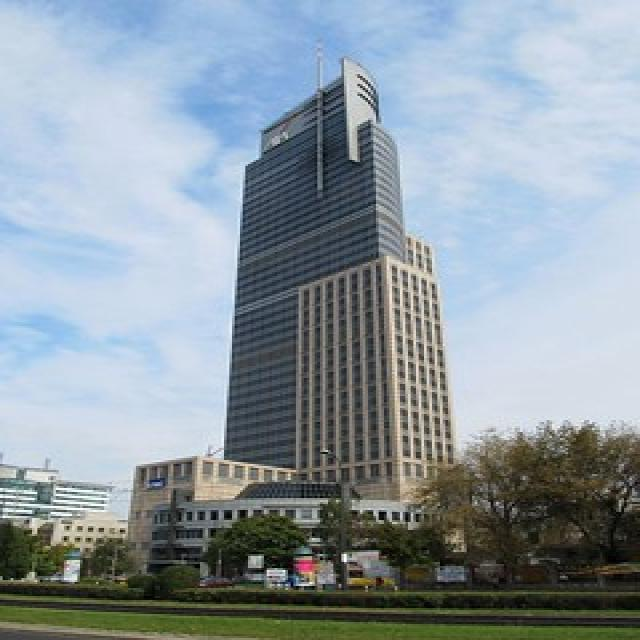building: (212, 55, 468, 557)
